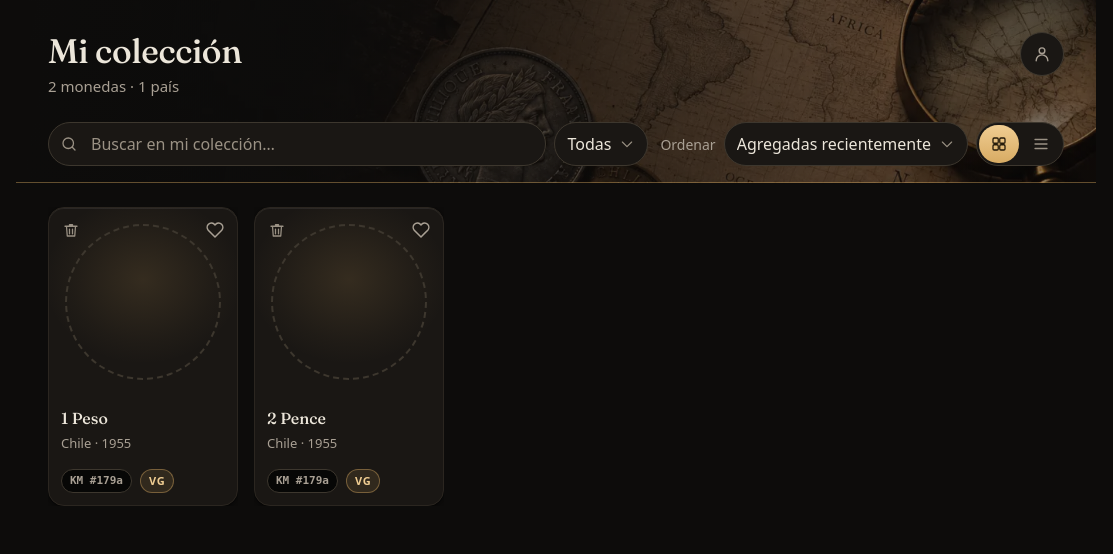
filtra la colección con el buscador
Type "pence" into the search field labelled "Buscar en mi colección…" at (297, 144), box [48, 122, 546, 166]
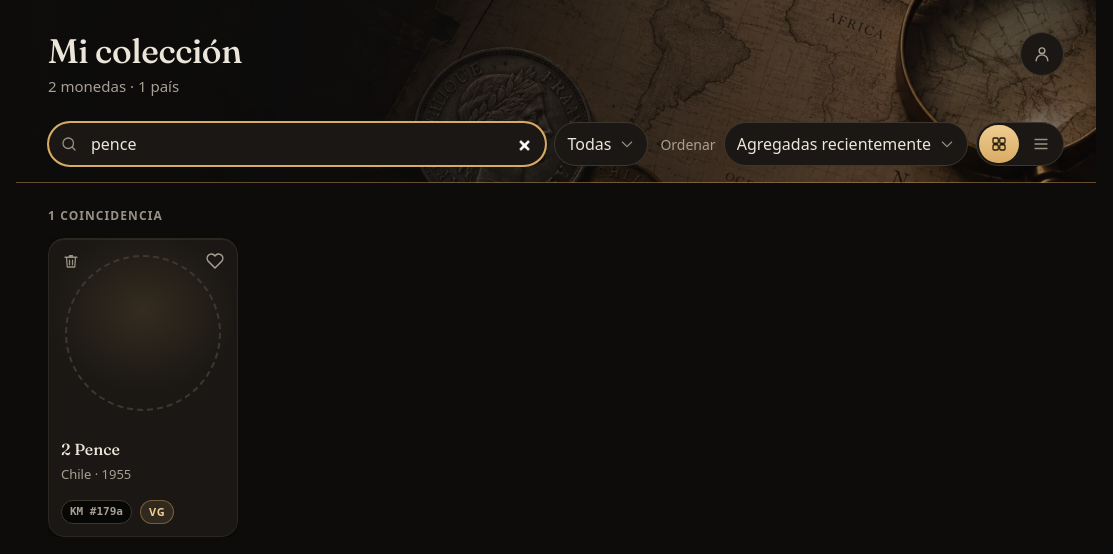
Expected: the button "2 Pence" is shown, [61, 439, 120, 460]
Expected: the button "1 Peso" is gone
